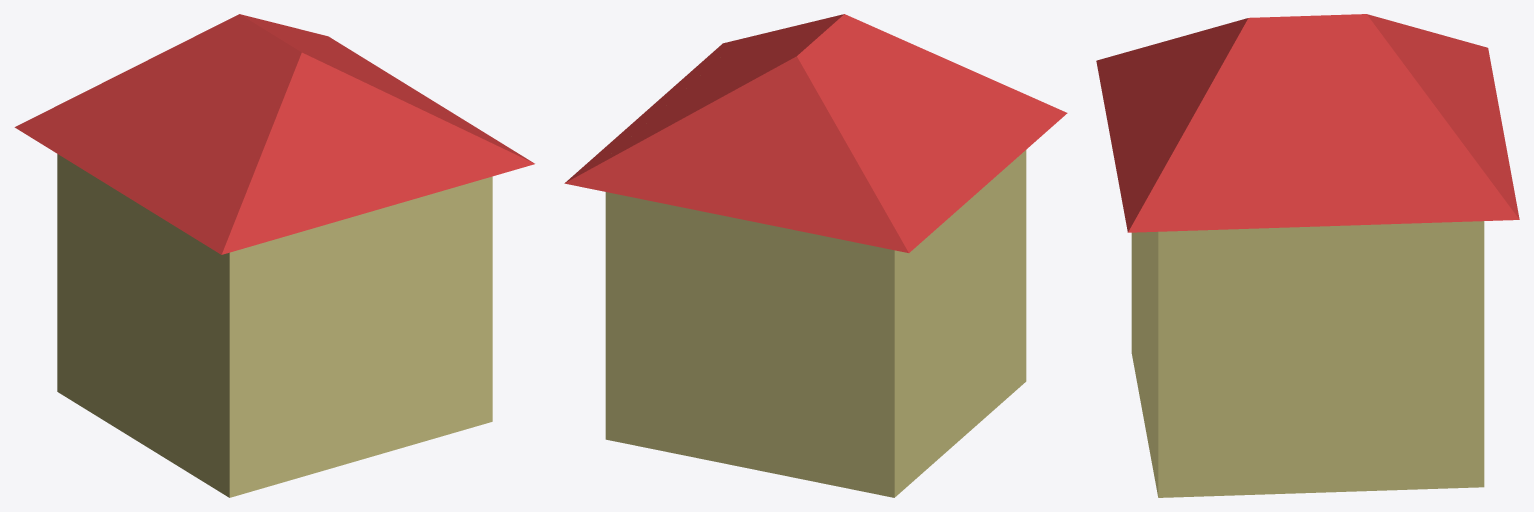
3 views of the same model, side by side, from view 1: azimuth 30°, elevation 25°; view 2: azimuth 150°, elevation 25°; view 3: azimuth 270°, elevation 25° (orthographic). The views are drawn at different scales.
Parts seen in each view (by area): view 1: group_5, group_3, group_4; view 2: group_5, group_3, group_4; view 3: group_5, group_3, group_4.
Boxes of the visible parts, x1,y1,x2,y2 form: group_5: [57, 154, 492, 497]; group_3: [36, 14, 490, 254]; group_4: [14, 31, 534, 254]; group_5: [605, 150, 1026, 497]; group_3: [587, 14, 1066, 252]; group_4: [564, 36, 1067, 252]; group_5: [1131, 221, 1484, 497]; group_3: [1133, 14, 1511, 232]; group_4: [1096, 40, 1519, 232].
Size of the model in its own units: 13.24 by 12.81 by 13.43.
